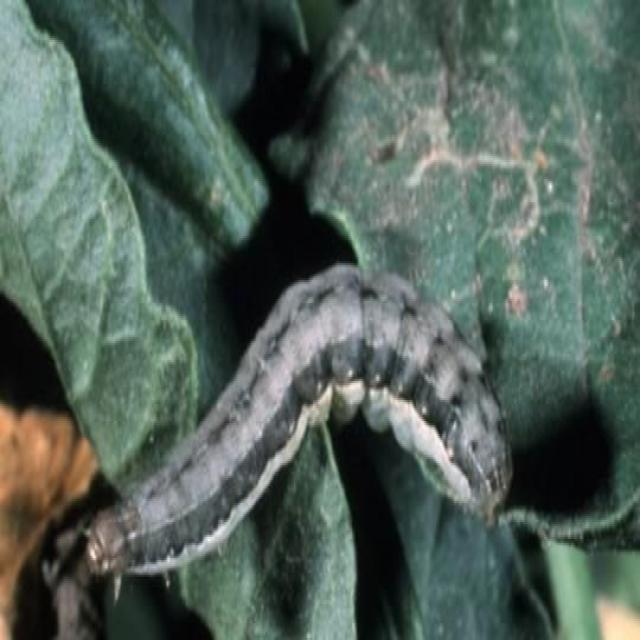BeetArmyWorm-Larva-: (75, 248, 518, 607)
